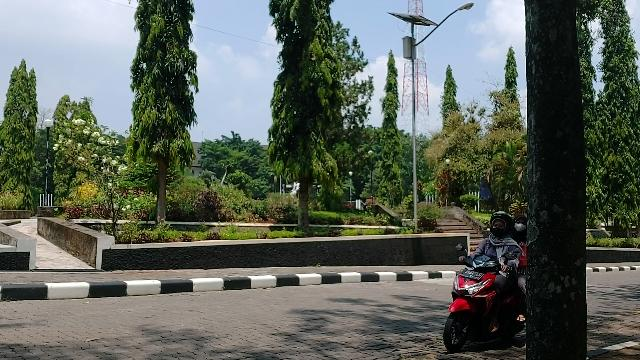helm: (490, 212, 512, 238)
motor: (445, 255, 527, 352)
non-helm: (515, 216, 528, 235)
